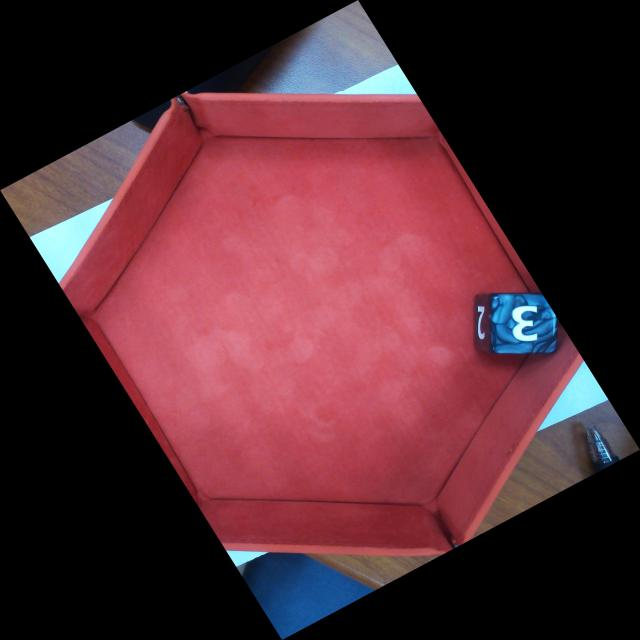dice: (494, 293, 555, 355)
